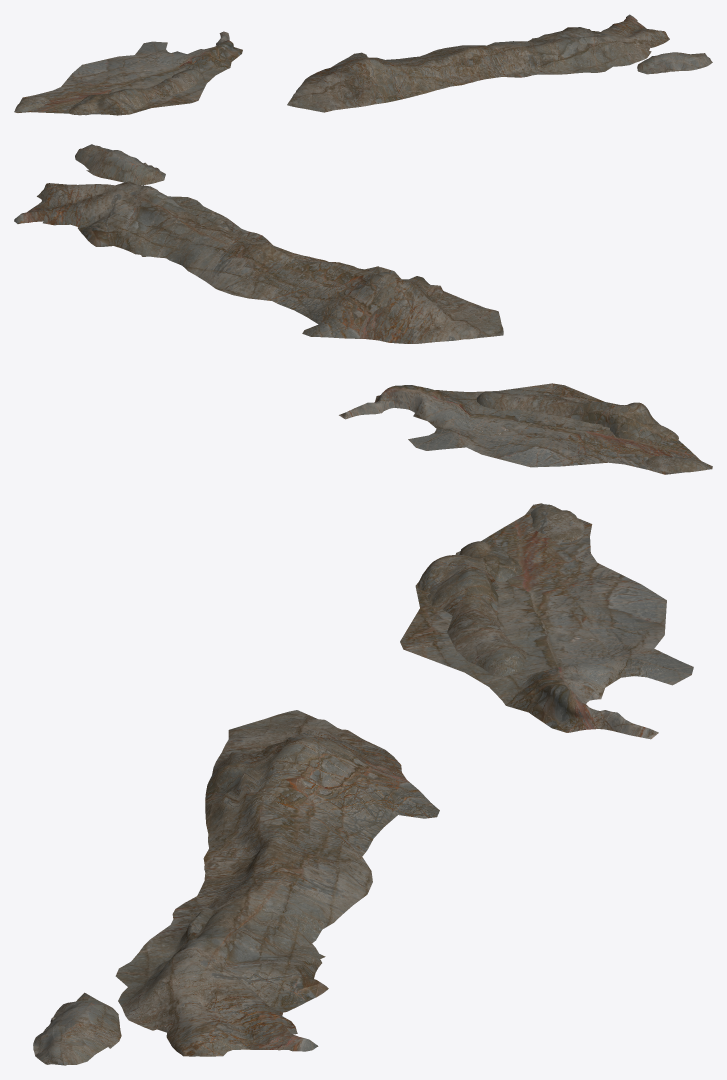
File: mountain.fbx
3 views of the same model, one above another, from view 1: azimuth 30°, elevation 25°; view 2: azimuth 150°, elevation 25°; view 3: azimuth 270°, elevation 25° (orthographic). The views are drawn at different scales.
Visible parts, largest first — view 1: mountain; view 2: mountain; view 3: mountain.
Part boxes in pixels (box(x1,y1,x2,y2)): mountain: box(14, 14, 712, 115); mountain: box(14, 144, 712, 474); mountain: box(33, 503, 693, 1065).
Bounding box in the file's own units: 275586 × 11226 × 136829.
